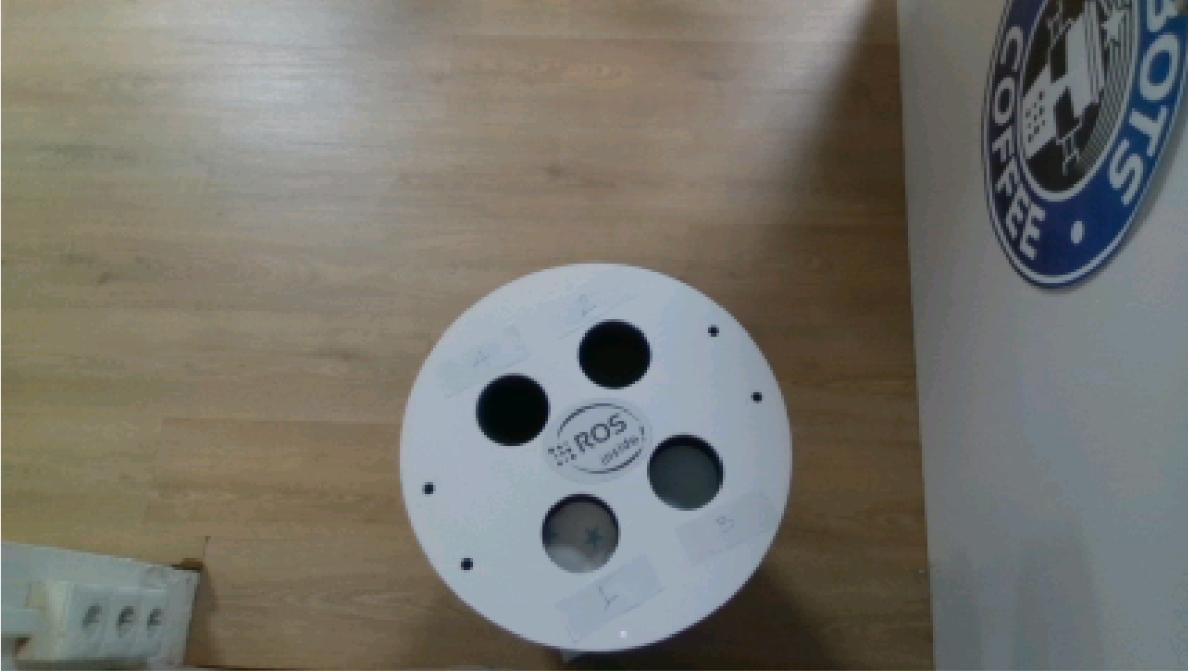hole: (644, 430, 734, 514), (471, 367, 557, 453), (539, 489, 623, 577), (574, 313, 656, 393)
